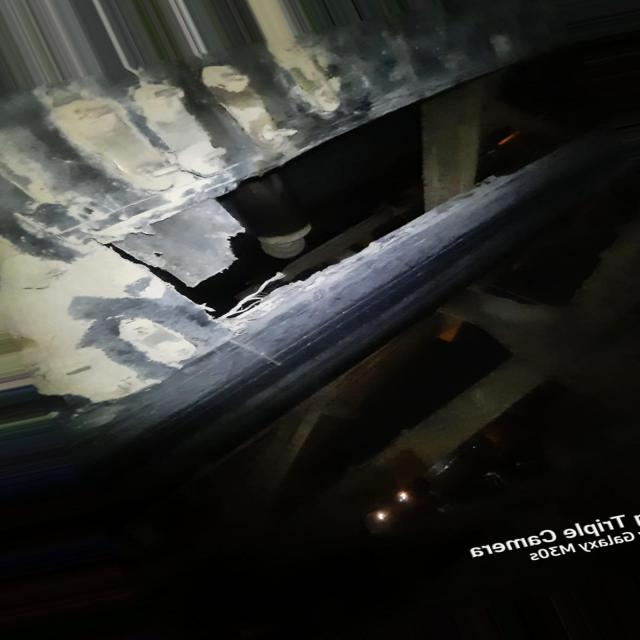Hole: (100, 36, 636, 317)
